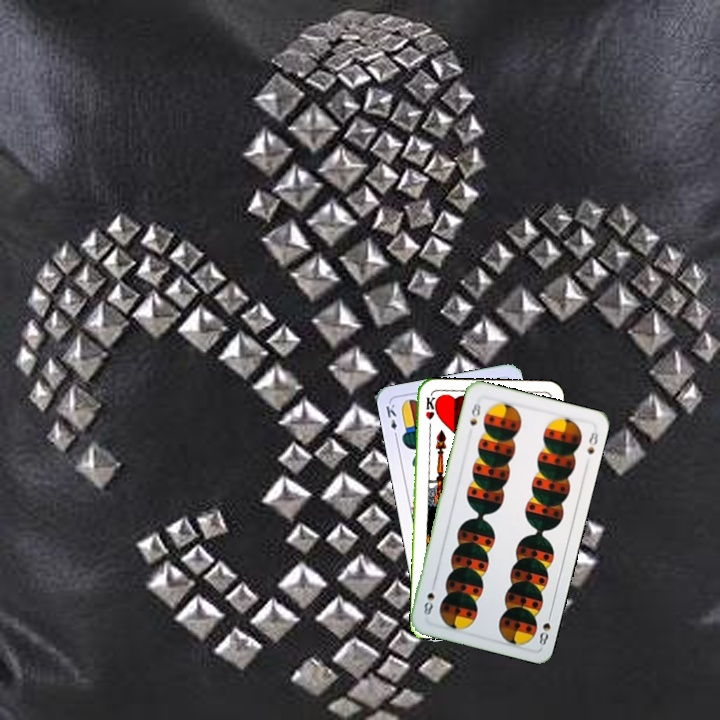EK: (382, 400, 400, 441)
HK: (421, 393, 438, 433)
S8: (535, 608, 554, 648), (466, 399, 483, 428)
